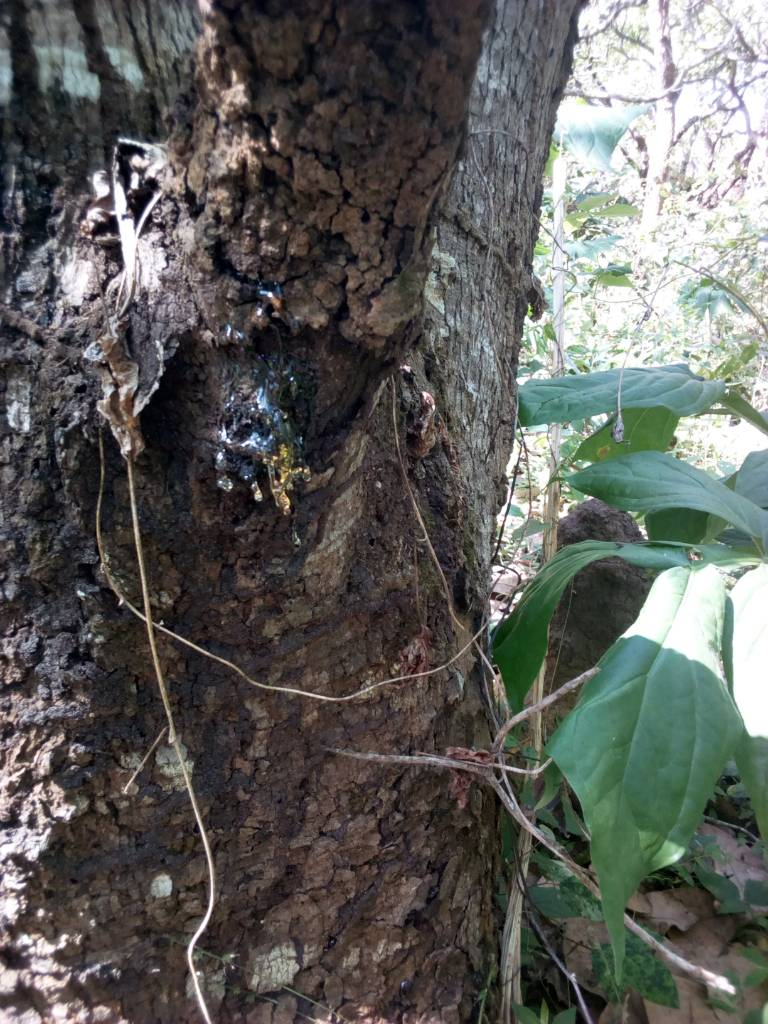Termites: (22, 153, 430, 1007)
